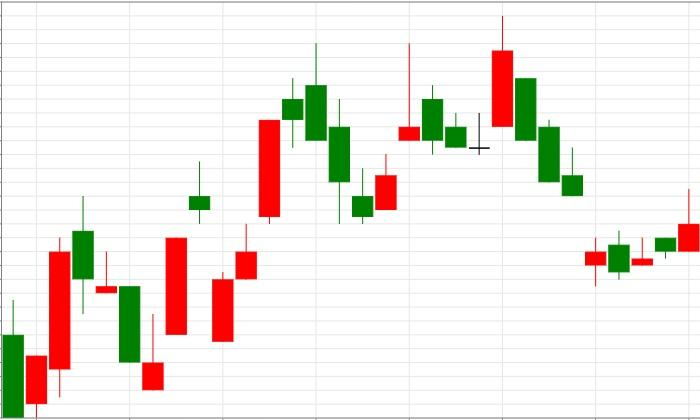inverse_hammer_rise: (72, 196, 164, 391)
